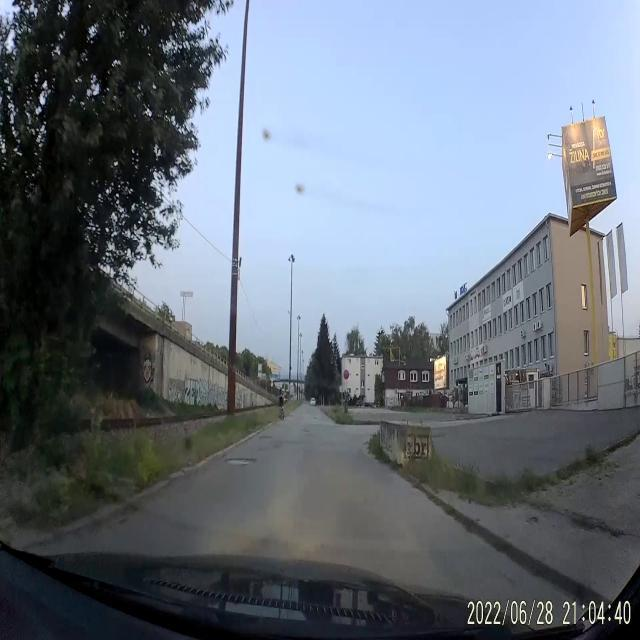Pothole: (224, 456, 258, 467), (258, 434, 274, 440), (303, 428, 309, 433)
